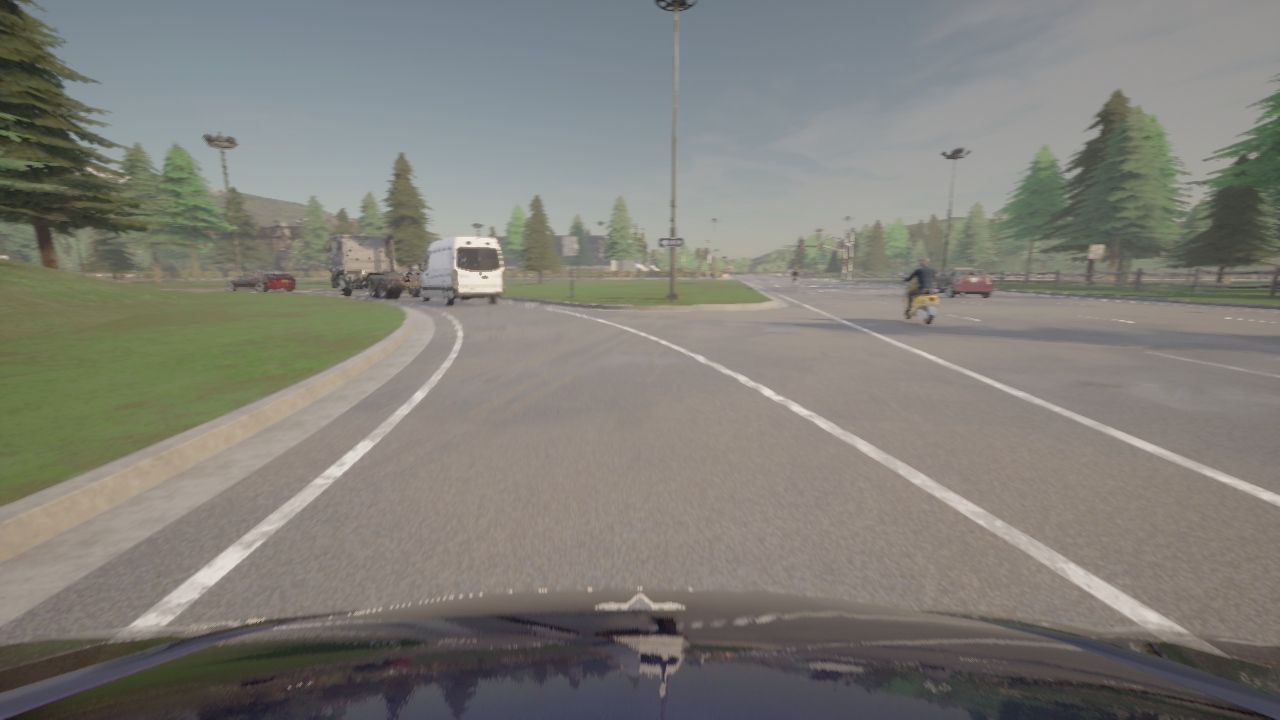cyclist: (0, 588, 1279, 719), (324, 233, 420, 299), (417, 235, 504, 305), (900, 272, 938, 324), (934, 268, 992, 297), (226, 270, 294, 291), (793, 279, 796, 290)
